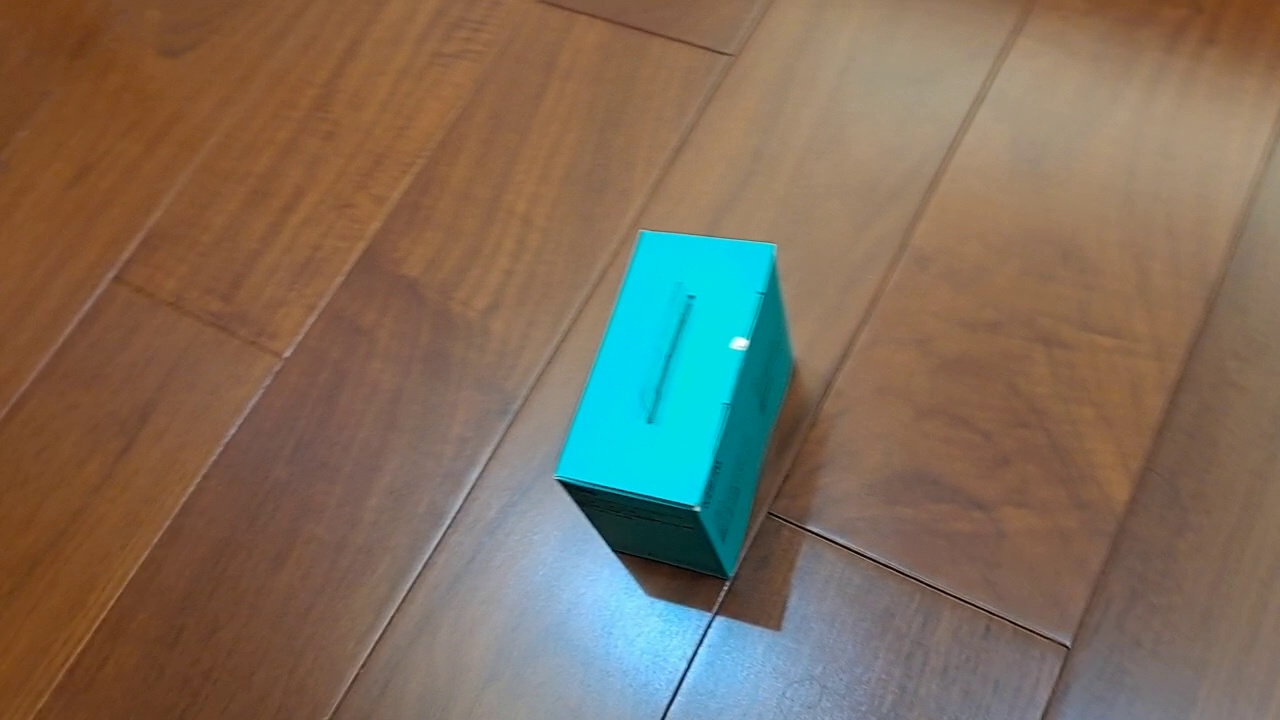webcam: (550, 227, 798, 582)
